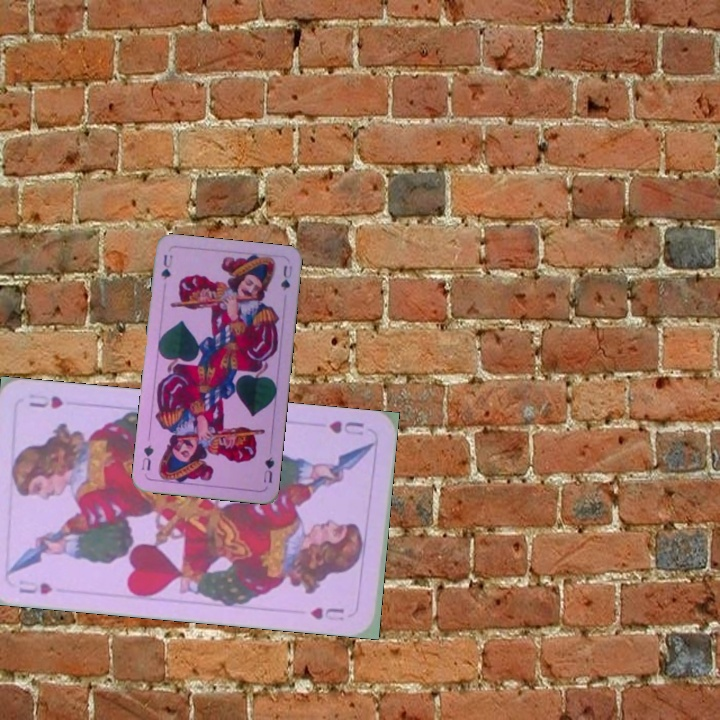GU: (259, 452, 277, 485), (157, 251, 175, 283)
HU: (325, 416, 366, 438), (14, 576, 55, 597)
